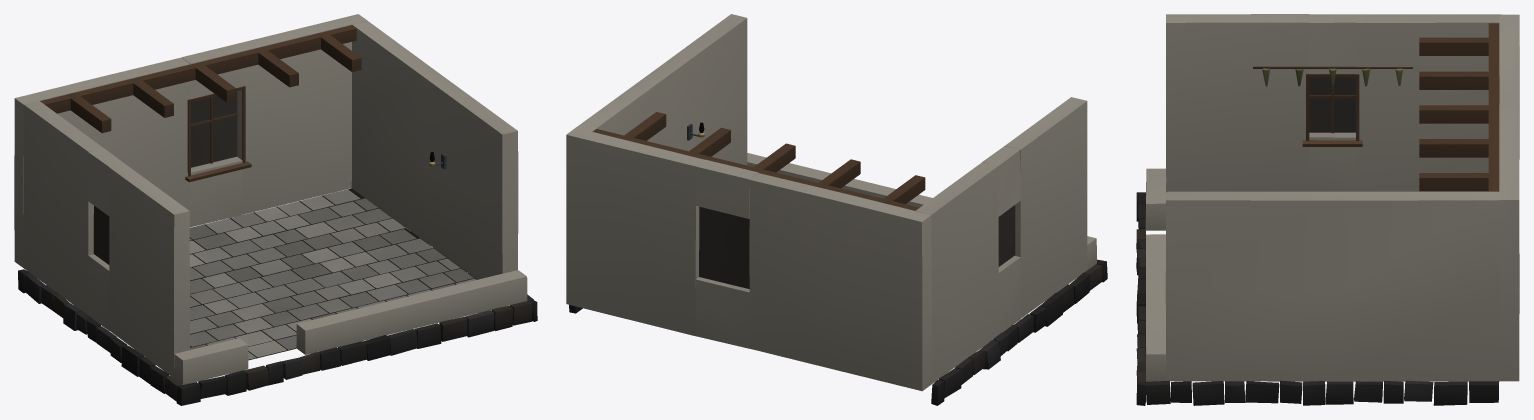
Rendered from ph_int_surgery_room.glb.
3 views of the same model, side by side, from view 1: azimuth 30°, elevation 25°; view 2: azimuth 150°, elevation 25°; view 3: azimuth 270°, elevation 25° (orthographic). The views are drawn at different scales.
Visible parts, largest first — view 1: ph_int_surgery_room; view 2: ph_int_surgery_room; view 3: ph_int_surgery_room.
Boxes of the visible parts, x1,y1,x2,y2 form: ph_int_surgery_room: (14, 14, 537, 405); ph_int_surgery_room: (566, 14, 1107, 405); ph_int_surgery_room: (1136, 14, 1519, 405).
Bounding box in the file's own units: 6.9 × 3.36 × 5.75.
